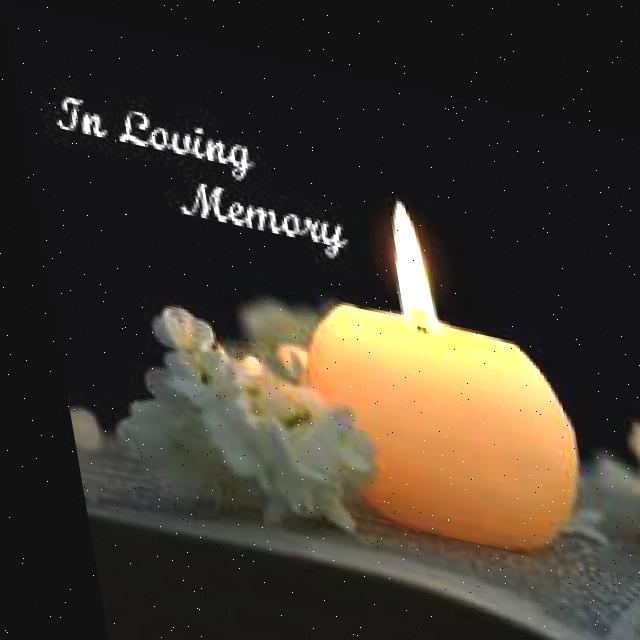Fire: (370, 169, 440, 318)
